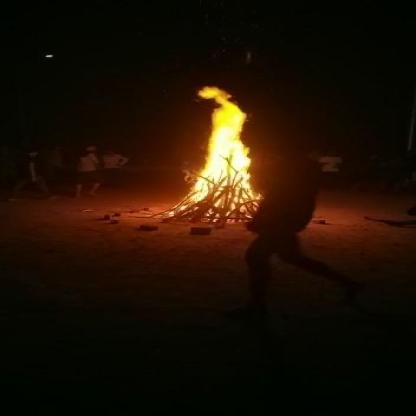fire: (168, 79, 267, 214)
